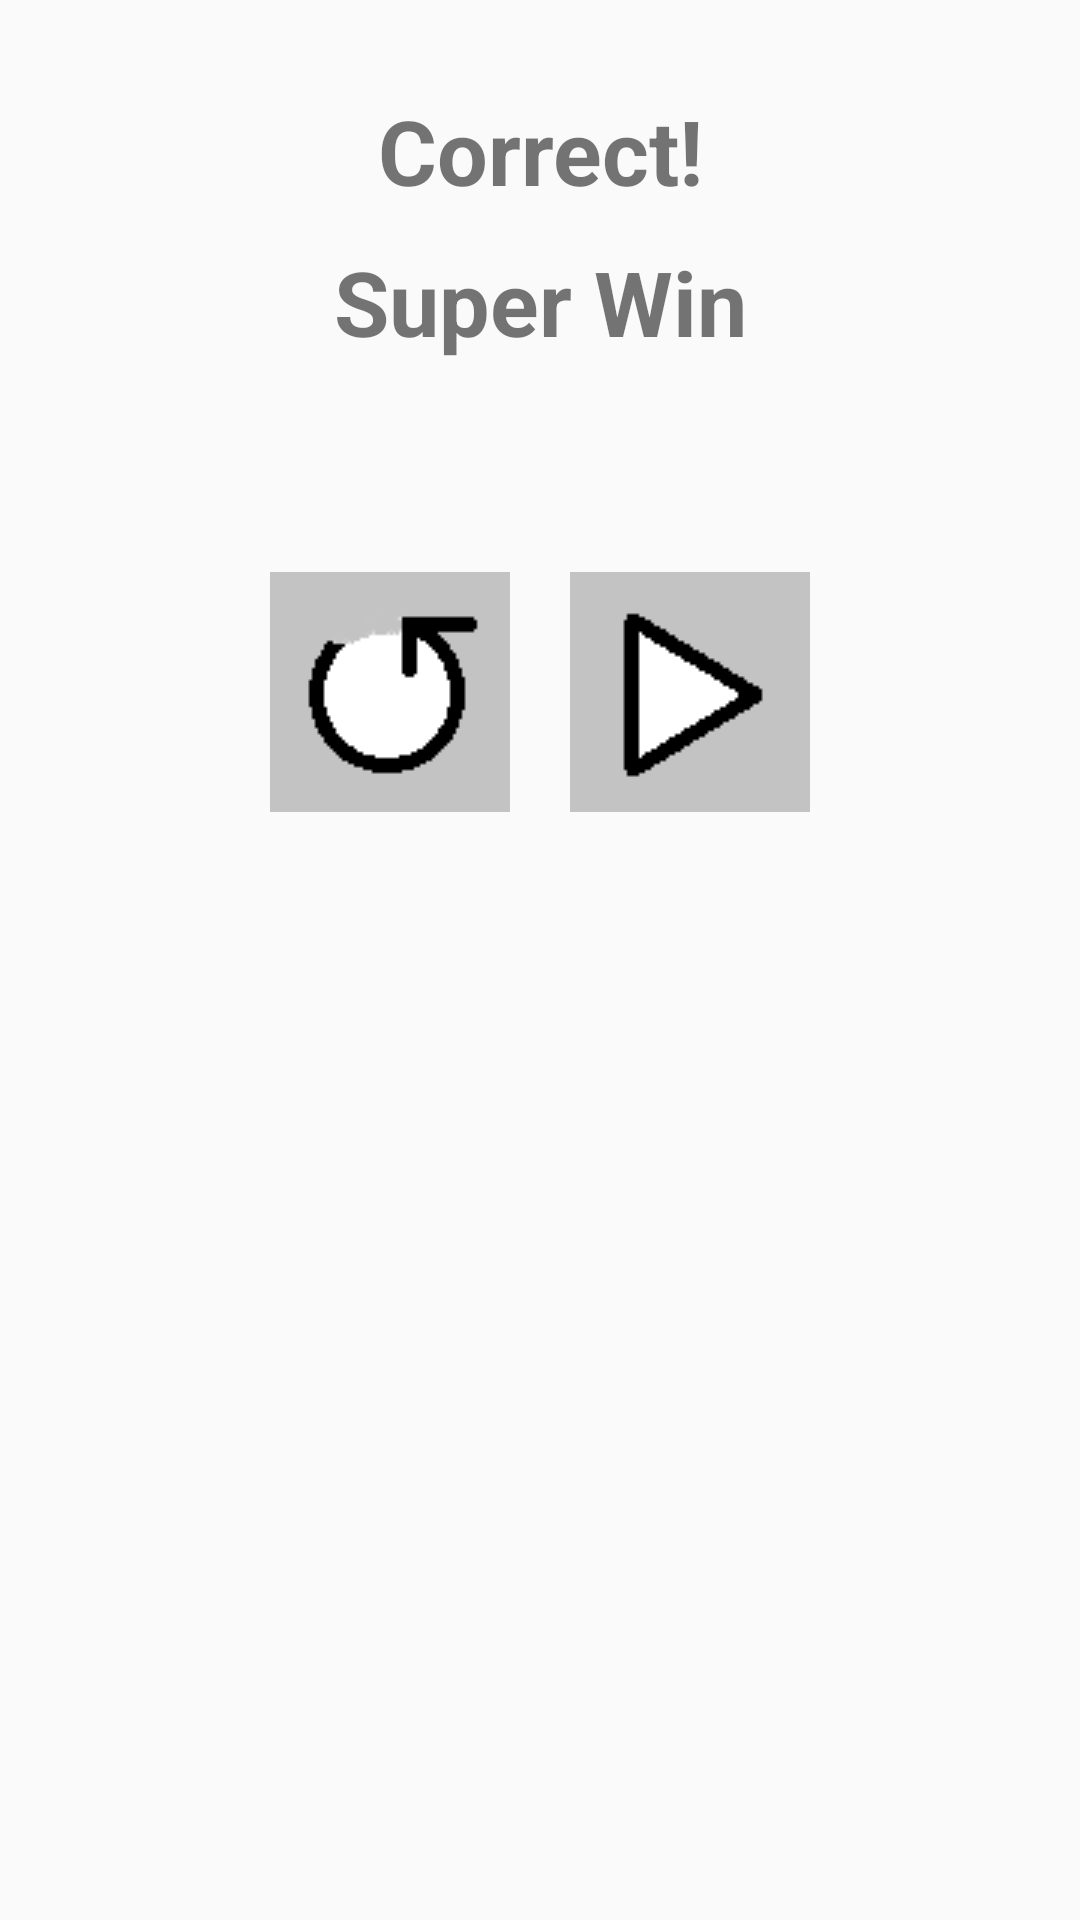

Where icons sit on this 1080x1920 app screen, as [x1,y1,x2,y2]:
again: [270,572,510,812]
next level: [570,572,810,812]
